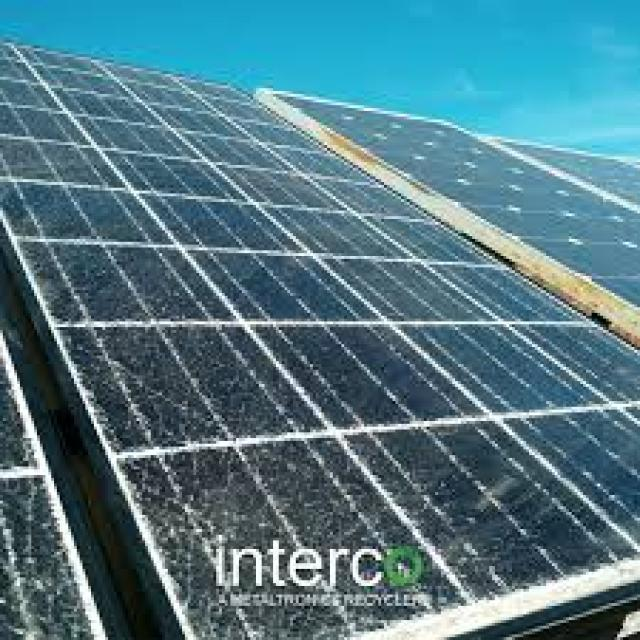dust-solar-panel: (0, 42, 639, 640)
